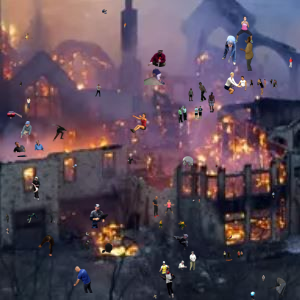Human: (13, 140, 45, 157), (144, 68, 176, 85), (234, 16, 254, 43), (73, 266, 93, 293), (89, 204, 109, 231), (158, 269, 176, 299), (51, 124, 73, 148), (221, 35, 238, 66), (239, 36, 254, 71), (40, 201, 61, 226), (177, 103, 203, 123), (248, 78, 278, 95), (224, 72, 247, 94), (152, 196, 175, 218), (161, 232, 189, 250), (84, 237, 113, 254), (266, 276, 288, 298), (38, 234, 60, 256), (182, 156, 218, 168), (178, 251, 197, 271), (188, 82, 207, 102), (130, 113, 147, 133), (146, 50, 166, 67), (158, 219, 187, 230), (31, 176, 41, 200), (222, 250, 243, 261), (19, 121, 32, 138), (248, 290, 264, 300), (208, 92, 215, 113), (159, 261, 170, 274), (7, 111, 22, 120), (27, 213, 39, 223), (95, 84, 103, 97), (23, 33, 33, 41), (27, 97, 32, 110), (127, 157, 134, 165), (289, 57, 293, 68), (5, 213, 9, 223), (192, 199, 200, 203), (102, 9, 107, 14), (262, 275, 265, 282), (124, 22, 127, 29), (153, 294, 157, 299), (227, 235, 232, 239), (85, 232, 90, 236), (72, 164, 77, 168), (6, 228, 9, 234), (272, 192, 275, 198), (19, 81, 22, 87)
